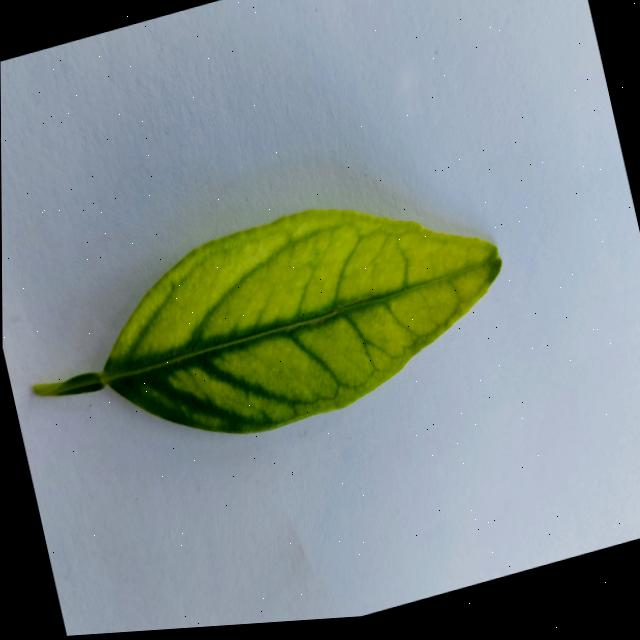greening: (34, 210, 500, 433)
